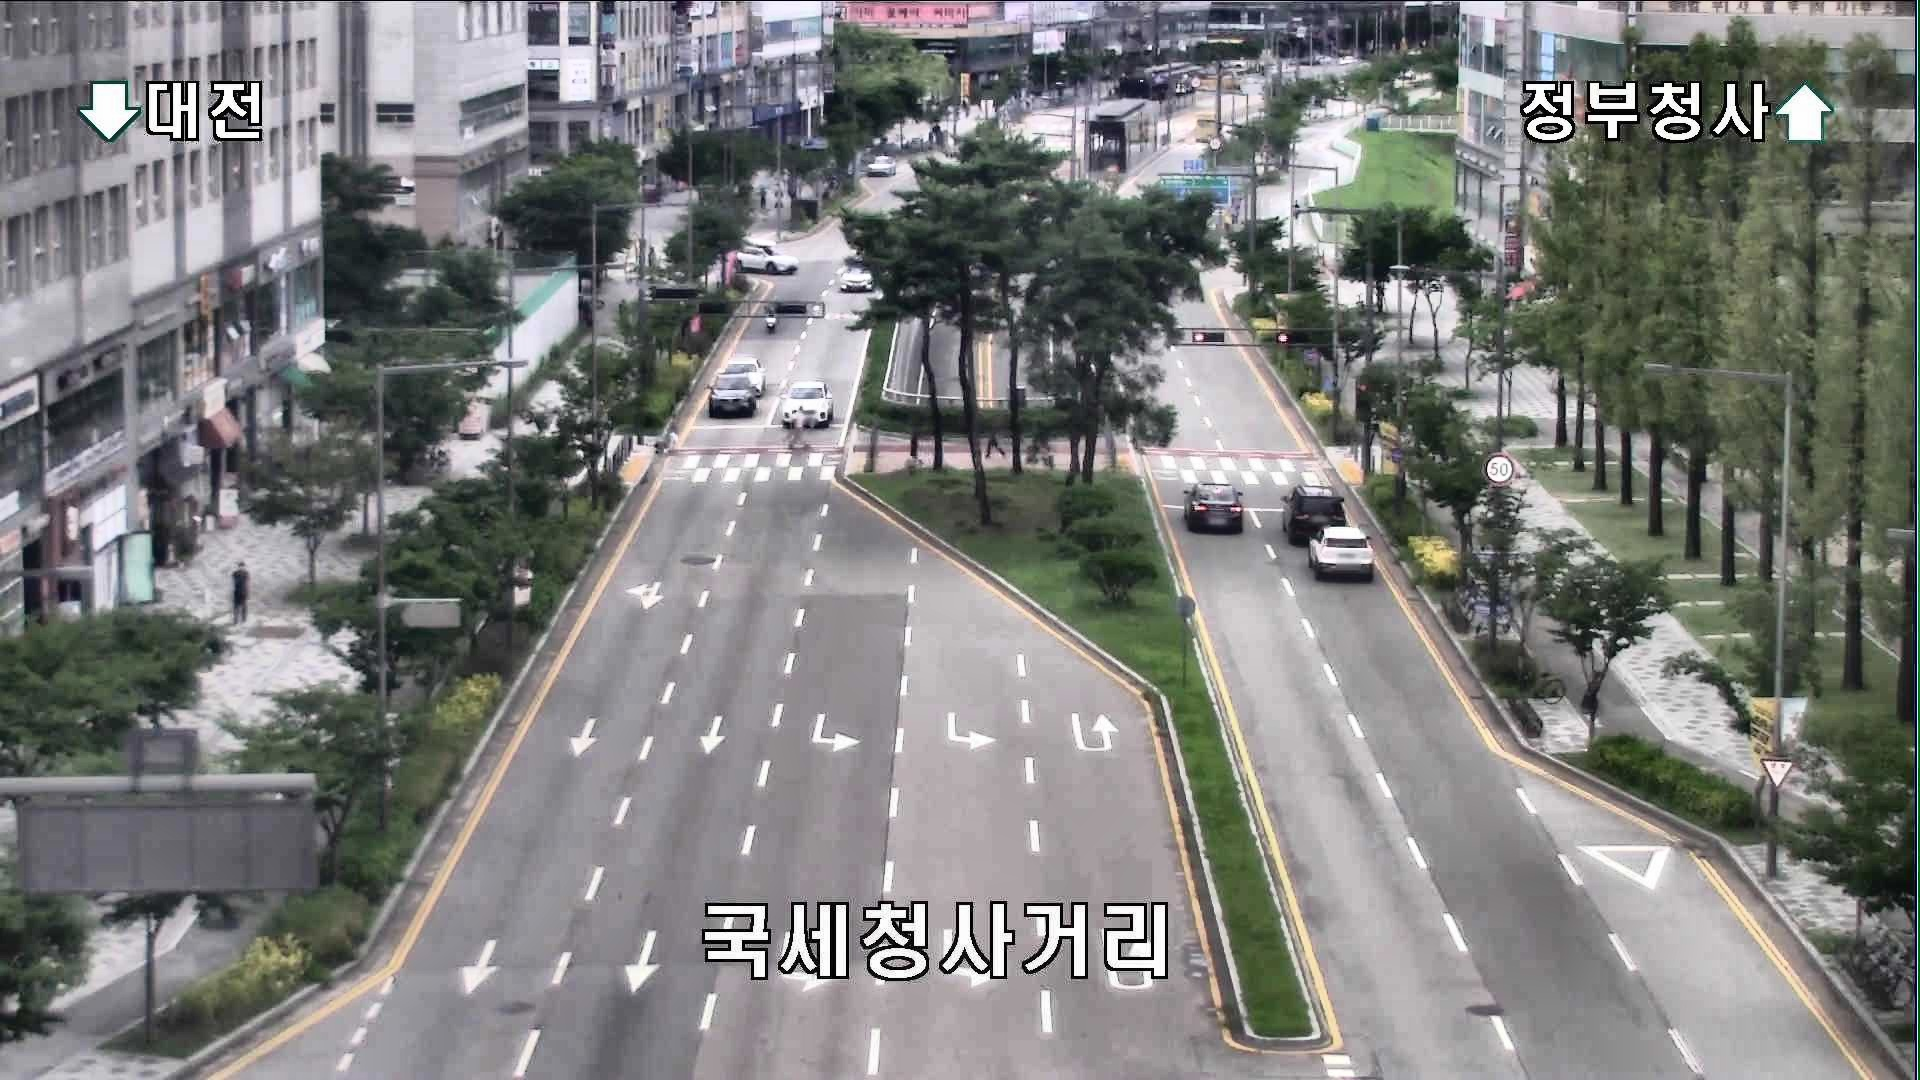crosswalk: (786, 404, 811, 454), (982, 419, 1006, 460)
sidewalk: (227, 559, 251, 626)
